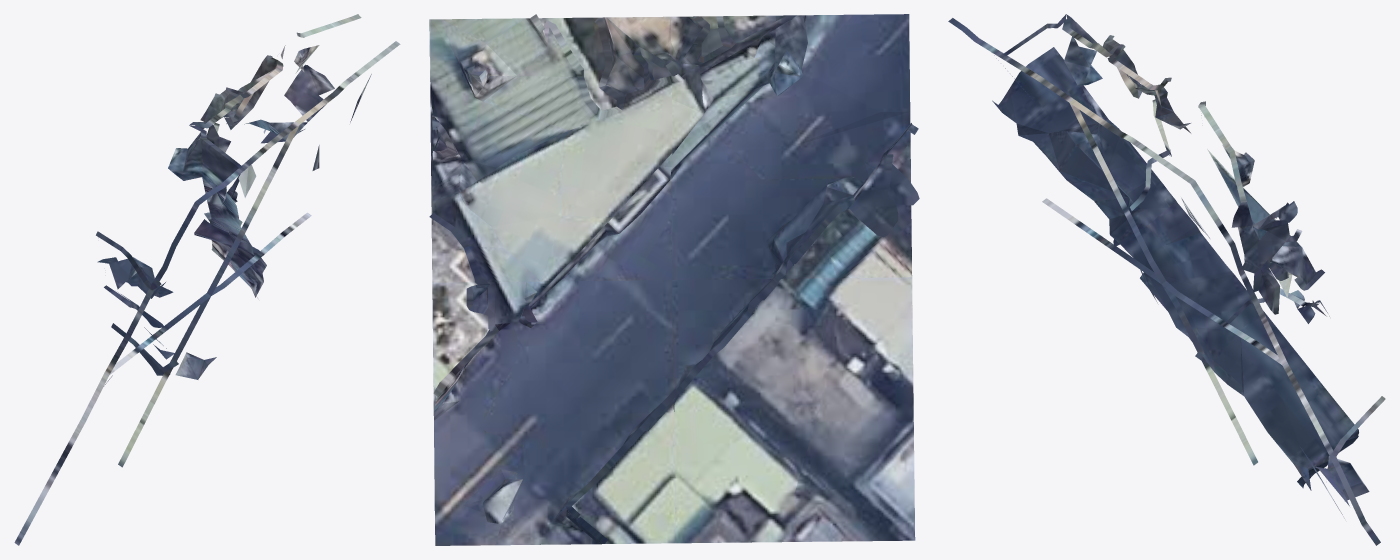
3 views of the same model, side by side, from view 1: azimuth 30°, elevation 25°; view 2: azimuth 150°, elevation 25°; view 3: azimuth 270°, elevation 25° (orthographic). The views are drawn at different scales.
Size of the model in its own units: 38.35 by 37.36 by 33.15.
Materials: 2 (2 with a texture image).
